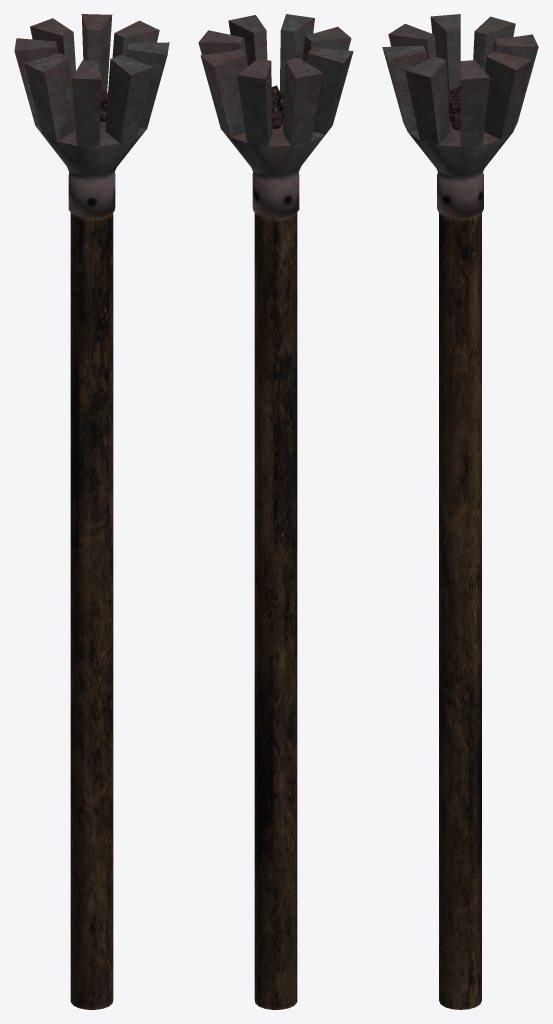
The model's file is Rod.fbx.
The picture shows the model from 3 angles, left to right: view 1: azimuth 30°, elevation 25°; view 2: azimuth 150°, elevation 25°; view 3: azimuth 270°, elevation 25°; orthographic projection.
Visible parts, largest first — view 1: Rod; view 2: Rod; view 3: Rod.
Boxes of the visible parts, box(x1,y1,x2,y2) form: Rod: box(14, 14, 169, 1009); Rod: box(198, 14, 353, 1009); Rod: box(382, 14, 538, 1009).
Bounding box in the file's own units: 20.65 × 139 × 20.65.
